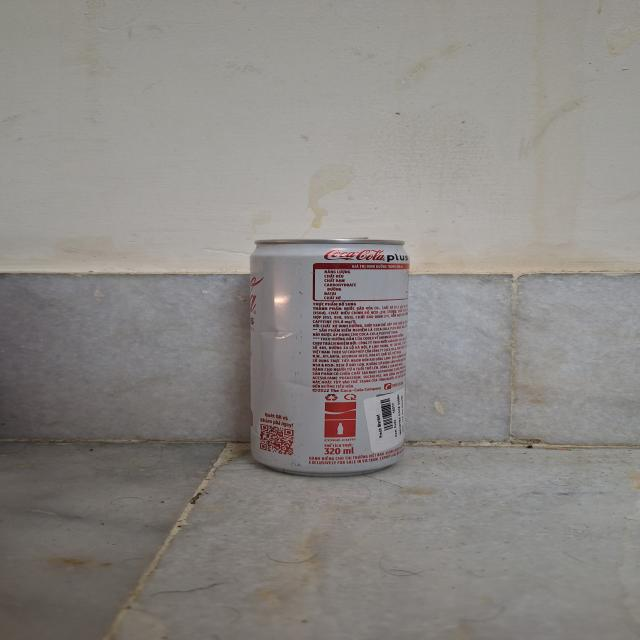Coca Cola Plus: (223, 223, 440, 476)
